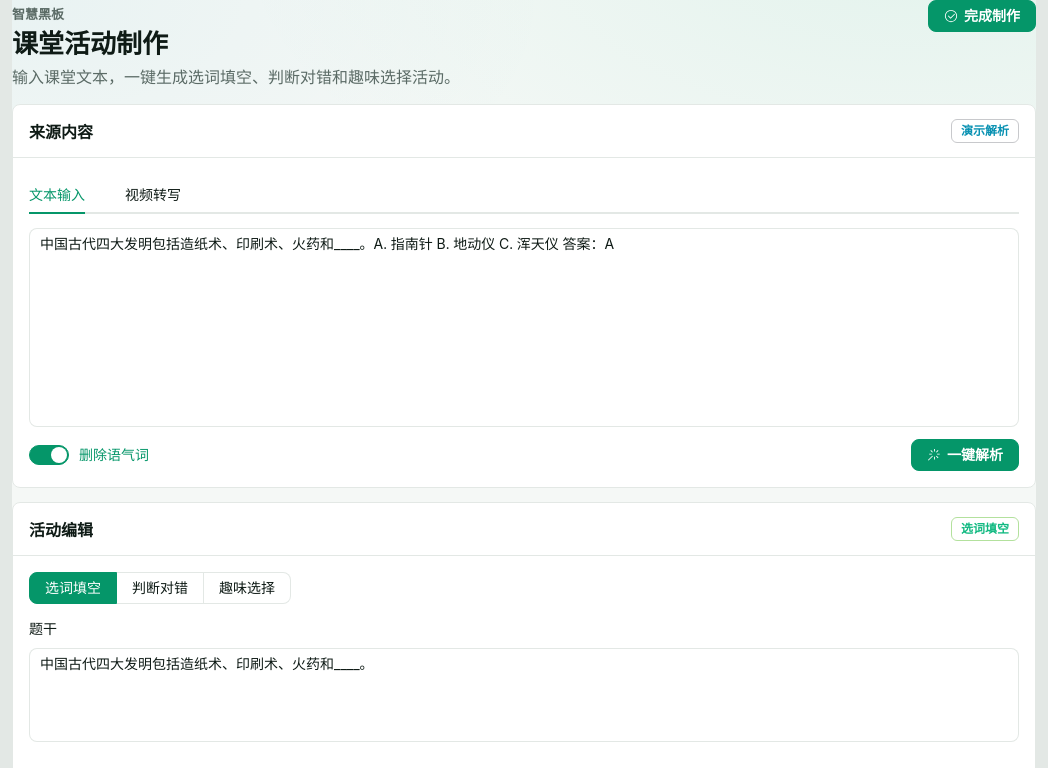
Test: SmartBlackboardView › rebuilds options when switching from judgement back to choice
Click the radio button with test id "blackboard-type-judgement" at (160, 588), box [117,572,204,604]
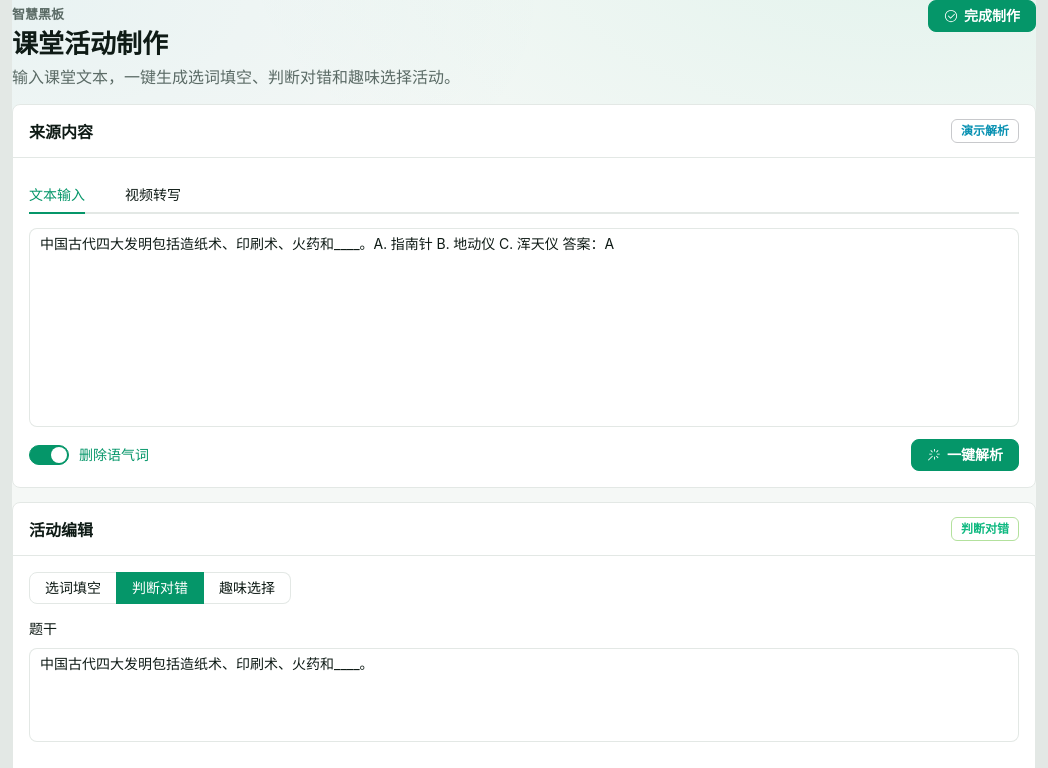
Click the radio button with test id "blackboard-type-choice" at (248, 588), box [204,572,291,604]
(page scrolled)
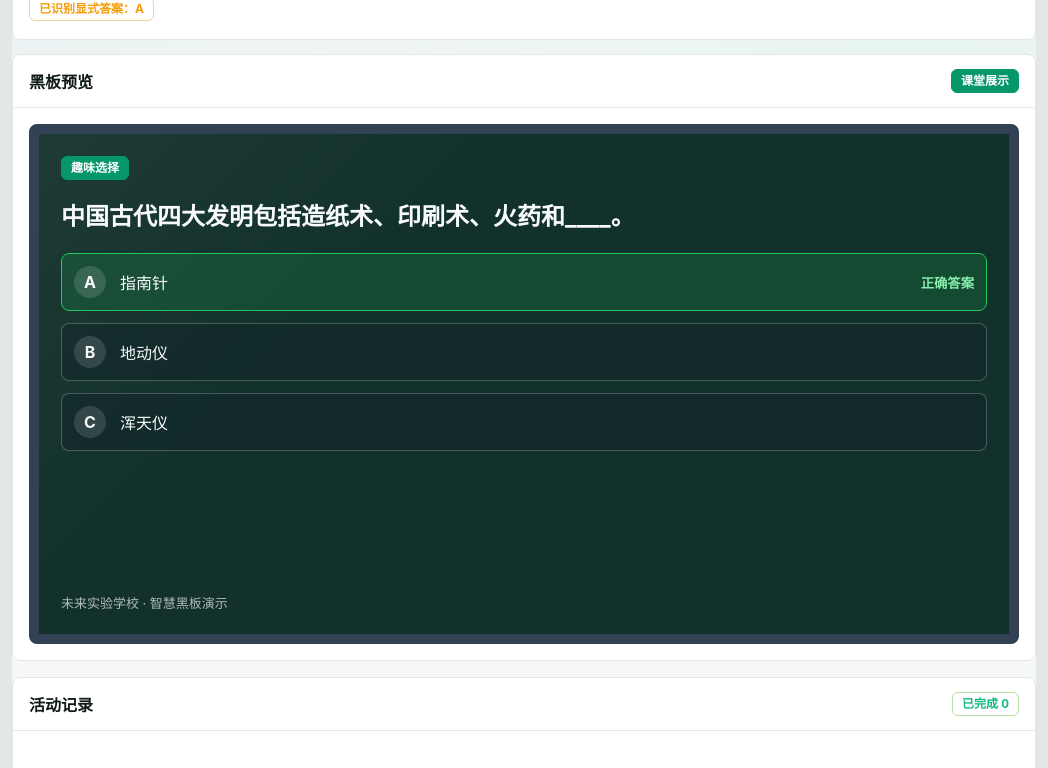
expect the element with test id "blackboard-preview" shows "指南针": met, box [120,273,168,293]
